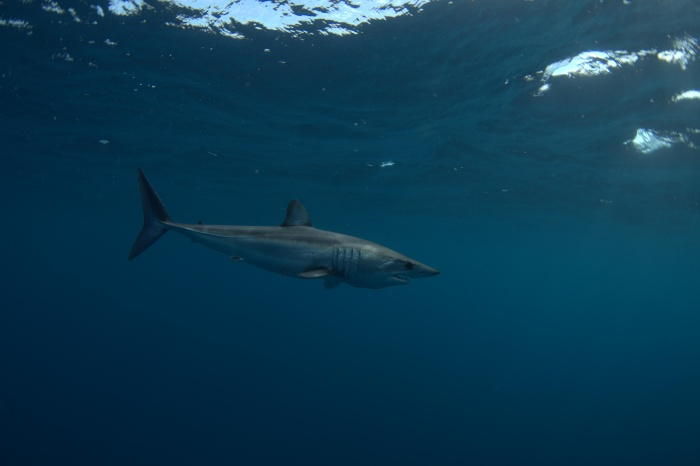Azul: (98, 158, 483, 325)
